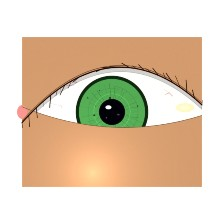pinguecula_lesion: (166, 93, 204, 123)
